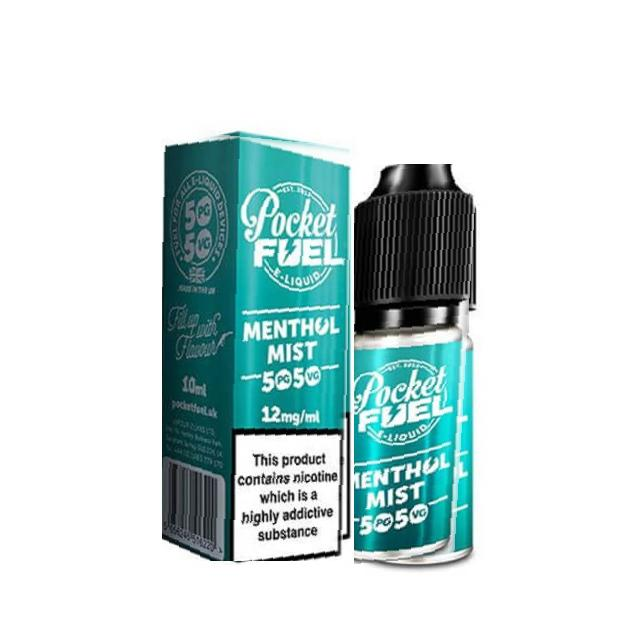Vapes: (162, 129, 352, 562), (354, 164, 478, 566)
